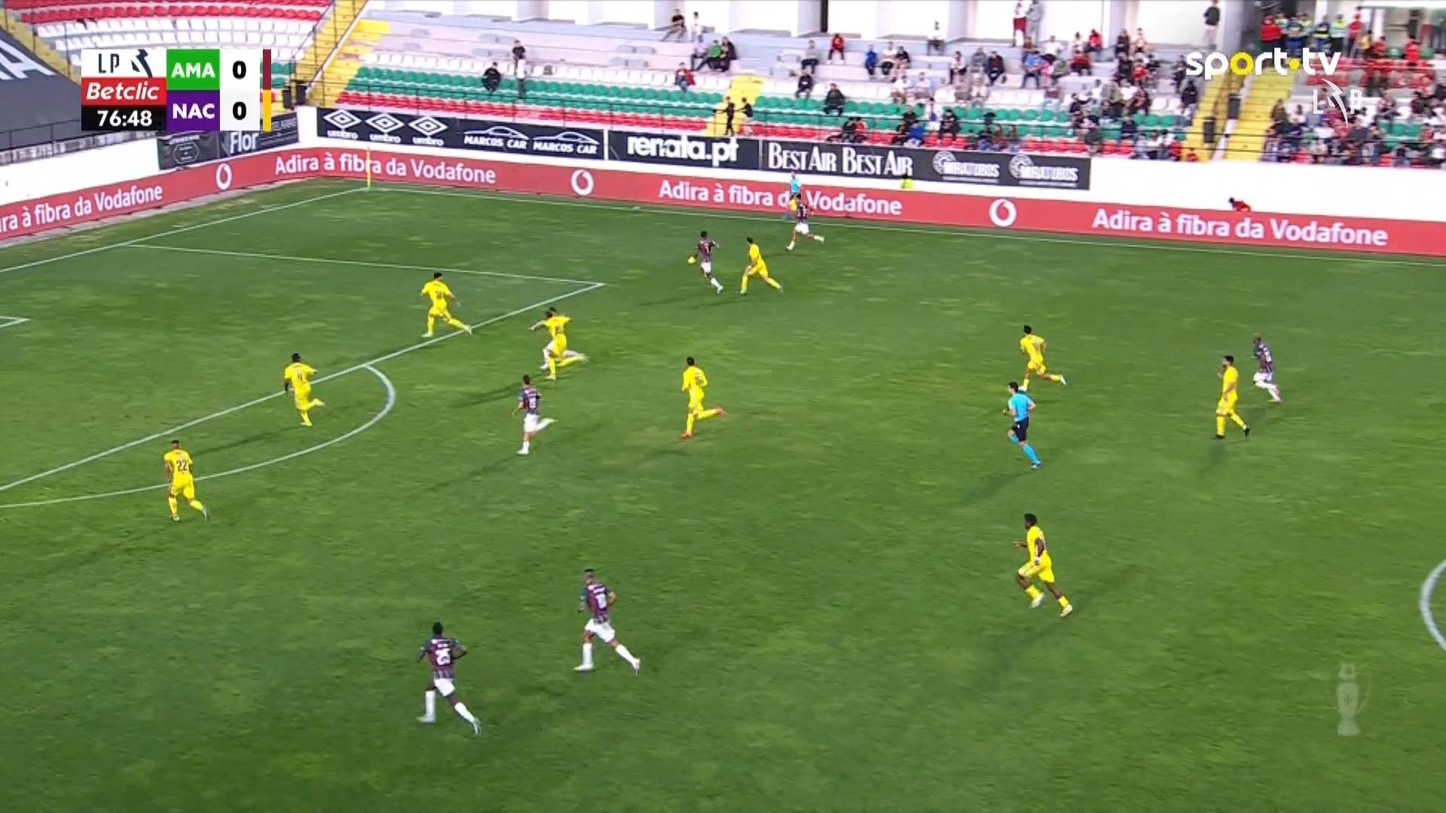ball: (686, 254, 697, 264)
player: (414, 621, 482, 736), (572, 567, 641, 676), (1011, 512, 1073, 617), (529, 310, 588, 380), (162, 438, 209, 522), (678, 355, 725, 439), (511, 373, 555, 455), (419, 270, 472, 338), (1017, 323, 1066, 392), (282, 351, 325, 427), (1213, 354, 1249, 439), (537, 307, 581, 370), (737, 236, 783, 295), (782, 191, 825, 251), (688, 229, 724, 294), (1250, 332, 1282, 403)
referee: (1002, 379, 1042, 470), (781, 169, 802, 221)
